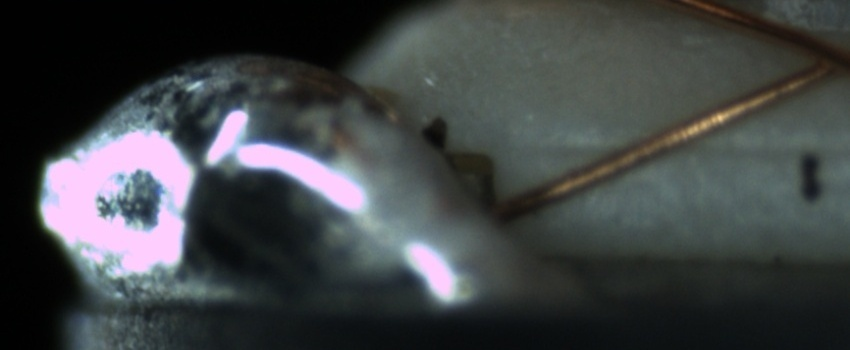CL: (791, 28, 848, 87)
DL: (525, 116, 841, 179)
